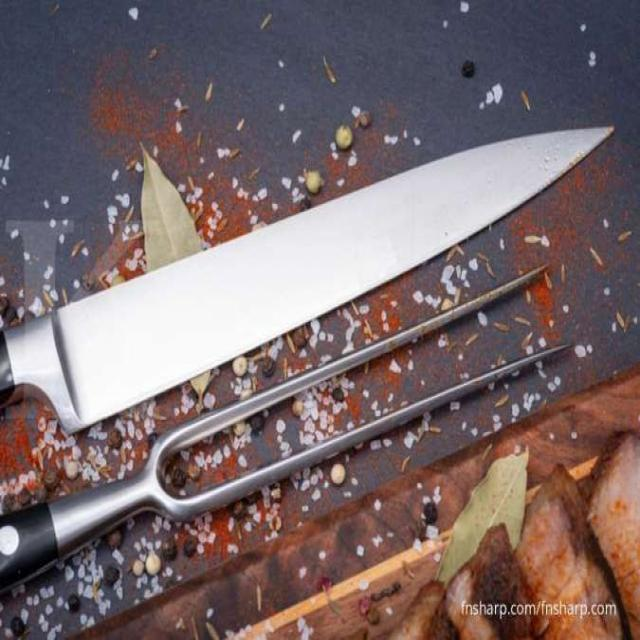Pisau: (0, 123, 618, 453)
